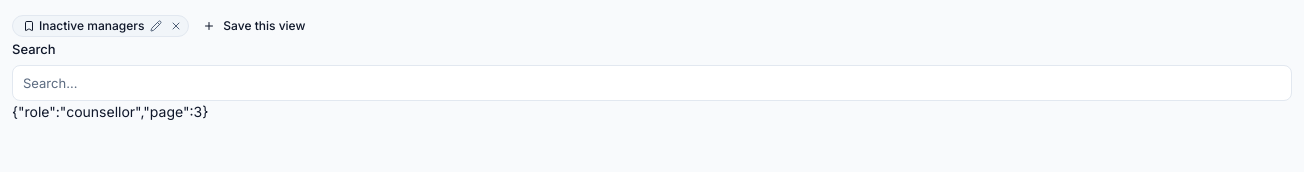
Test: SavedViews › saves the current query under a name
Click the button "Save this view" at (254, 26), box [195,12,313,40]
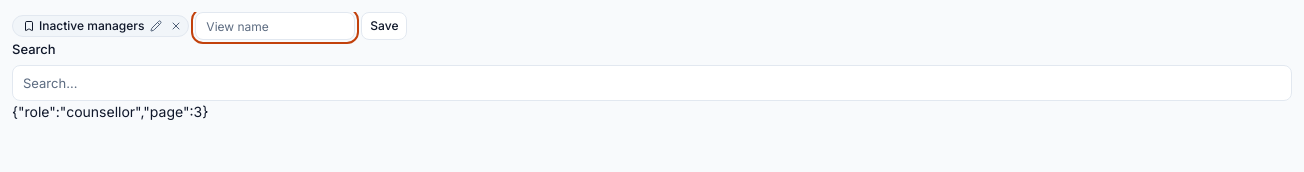
Type "Counsellors" into the field named "Name this view" at (275, 26), box [195,12,355,40]
Then press Enter
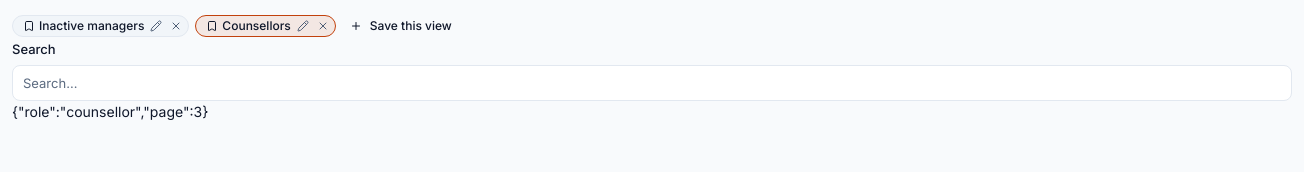
Expected: the button "Counsellors" is shown, [206,18,291,34]
